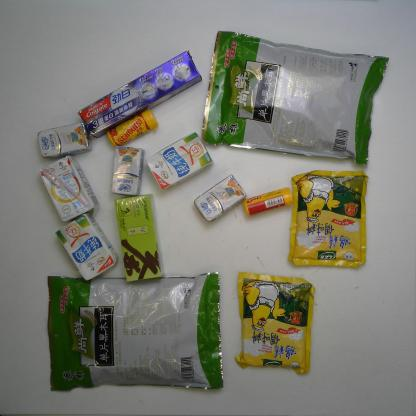Candy: (103, 107, 161, 148), (240, 186, 296, 220)
Dried Food: (198, 28, 390, 170), (42, 270, 226, 394)
Instant Drink: (112, 191, 166, 284)
Milk: (52, 210, 120, 283), (36, 154, 102, 224), (143, 129, 216, 192), (192, 172, 249, 225), (33, 120, 93, 162), (107, 143, 147, 199)
Personal Hygiene: (74, 46, 204, 139)
Seasoner: (233, 269, 317, 377), (286, 169, 370, 272)
